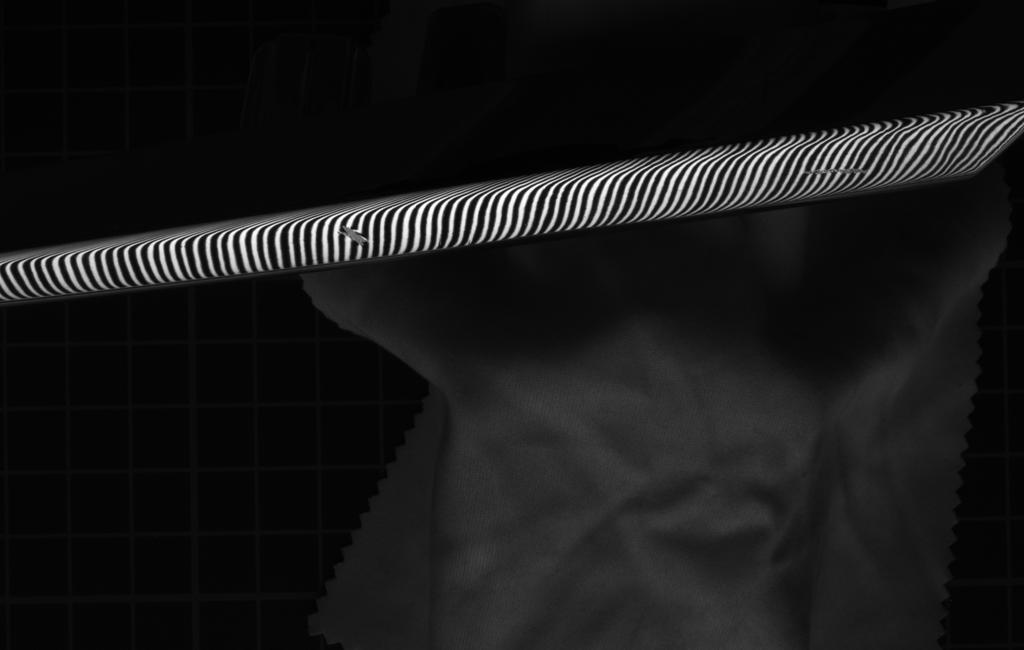Scratch: (334, 221, 385, 251), (801, 167, 876, 179)
